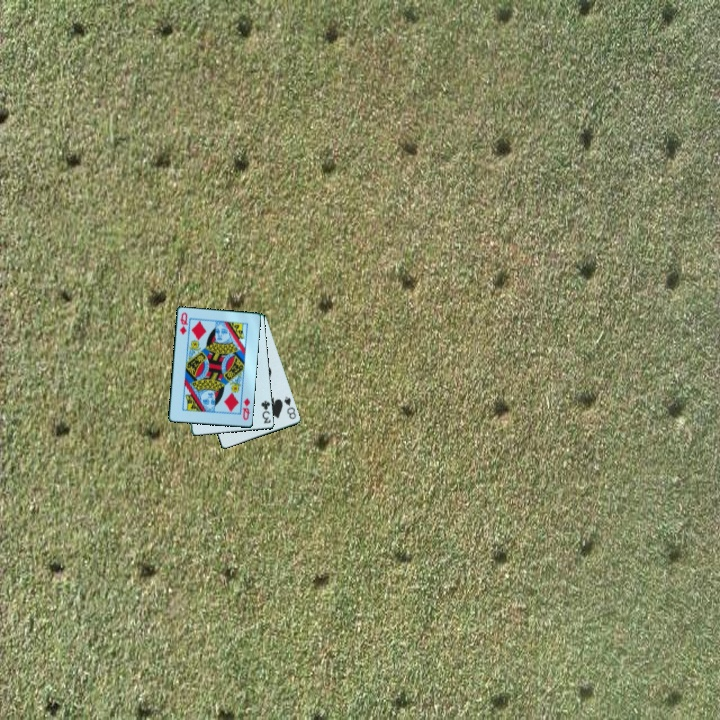3c: (258, 397, 274, 426)
8s: (281, 393, 299, 422)
Qd: (176, 309, 191, 337), (239, 395, 253, 423)
